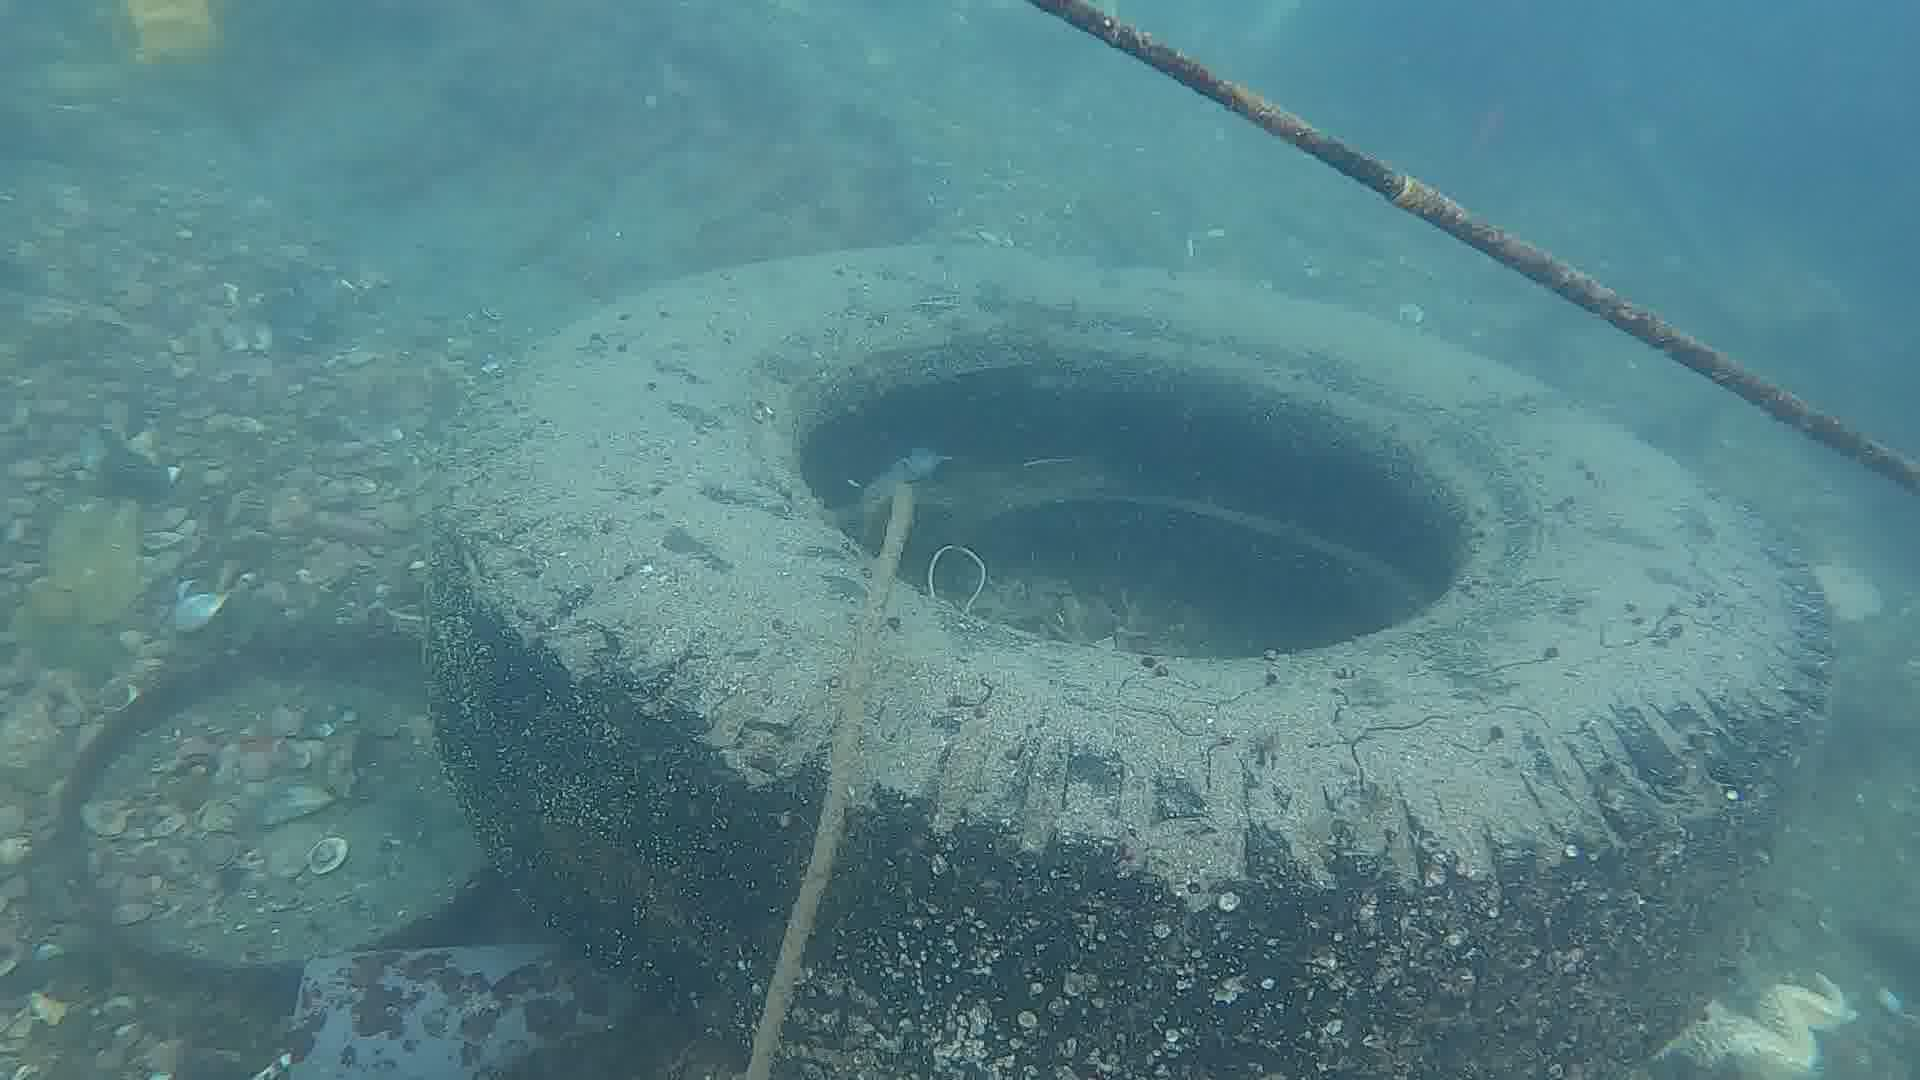rope: (740, 475, 913, 1080)
tire: (421, 241, 1836, 1080)
